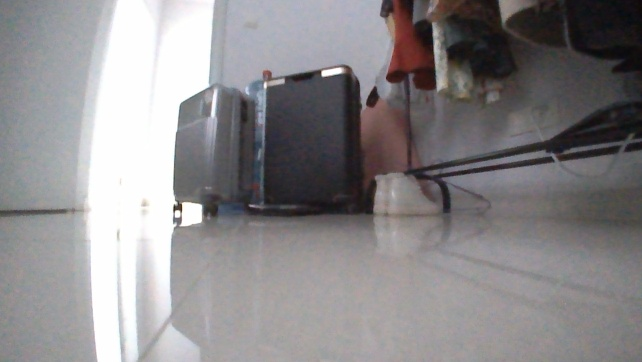door_anno: (0, 0, 118, 213)
shoe: (370, 169, 440, 218)
wire: (525, 101, 634, 180)
